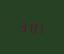eight: (27, 19, 34, 34)
one: (35, 20, 42, 34)
three: (18, 18, 25, 33)
